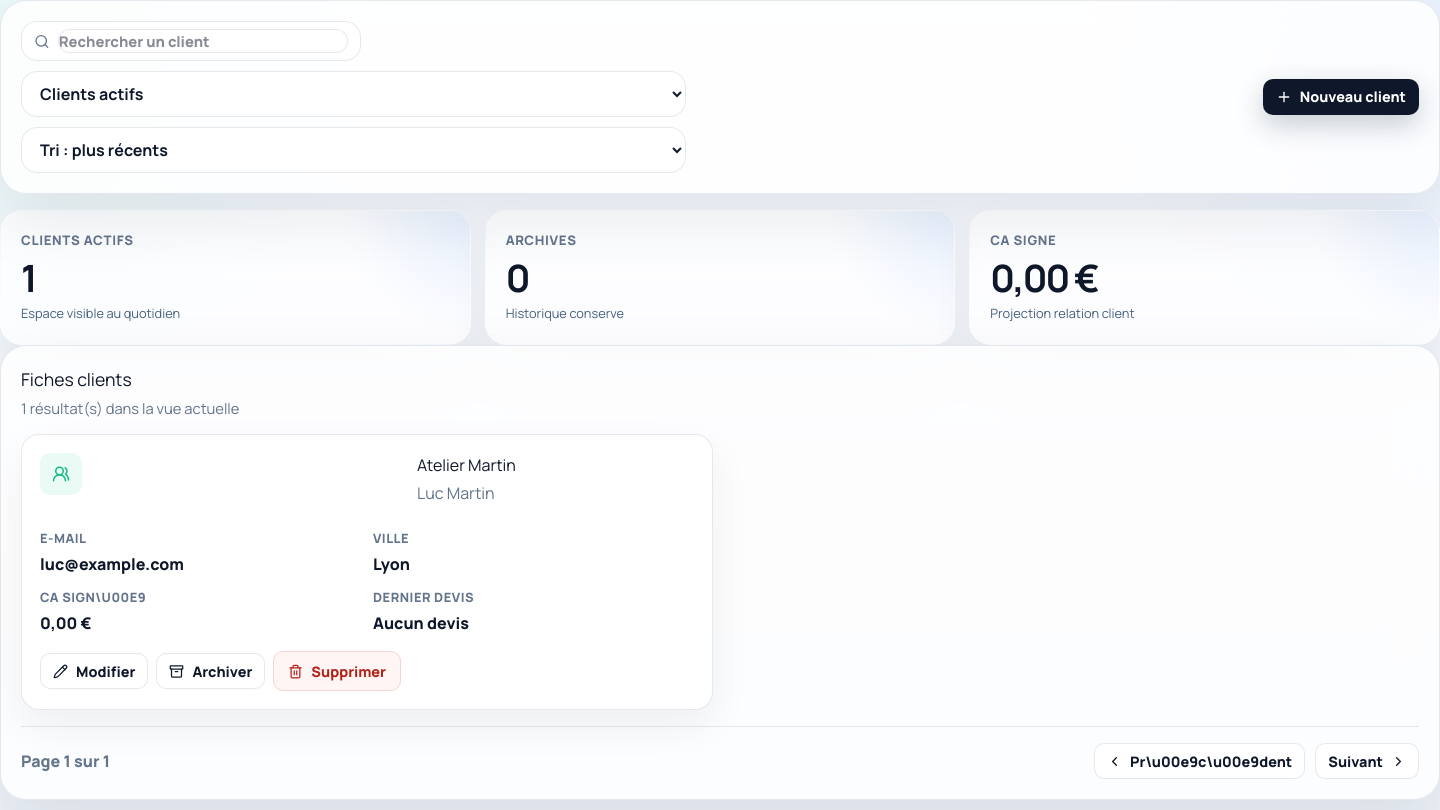
Test: ClientsWorkspace › shows a validation toast when name is missing
What coordinates should you click on to do the following:
click the button "Nouveau client"
I would click on:
 (1341, 97)
Its box is [1263,79,1419,115].
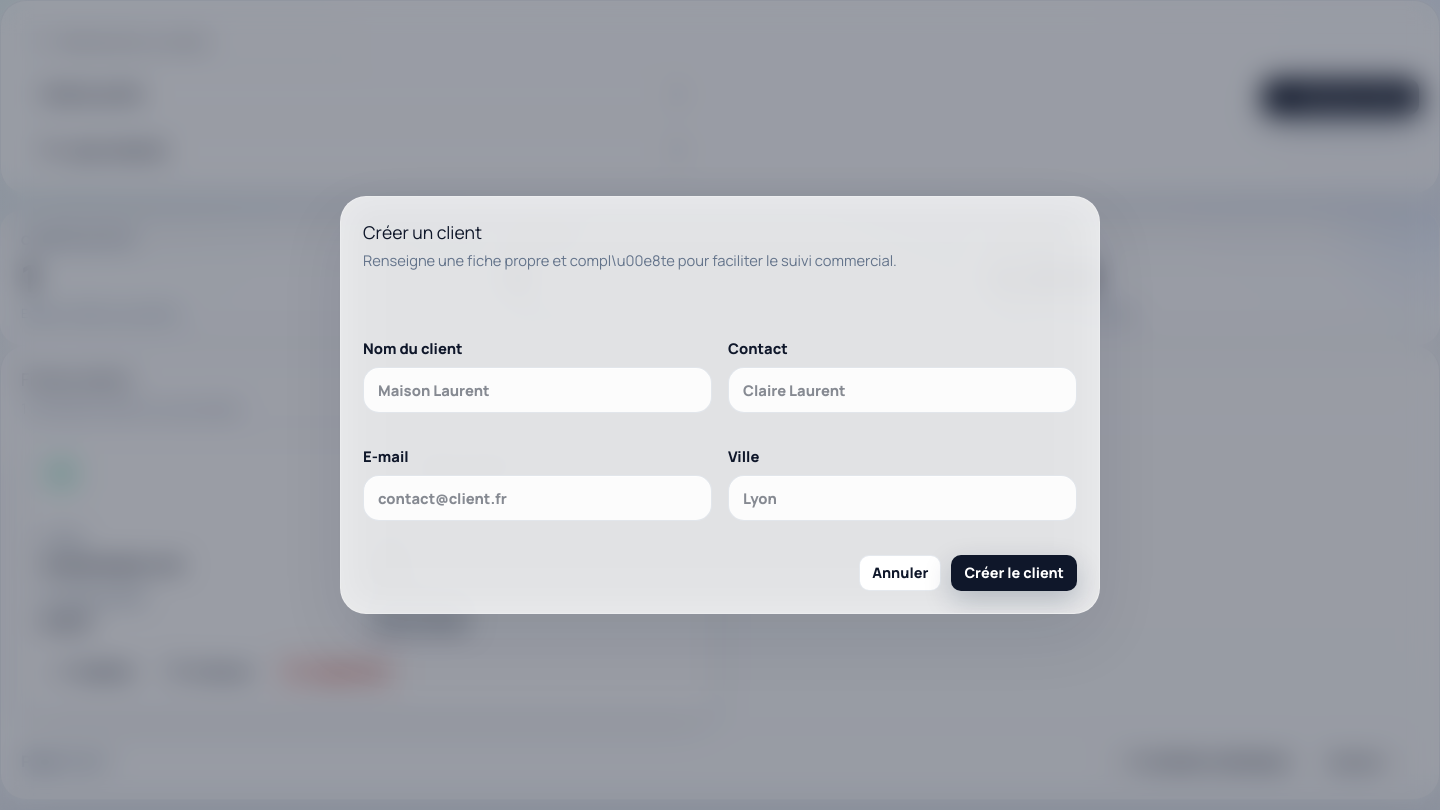
What coordinates should you click on to do the following:
click the button "Créer le client"
I would click on:
 (1014, 573)
Its box is [951,555,1077,591].
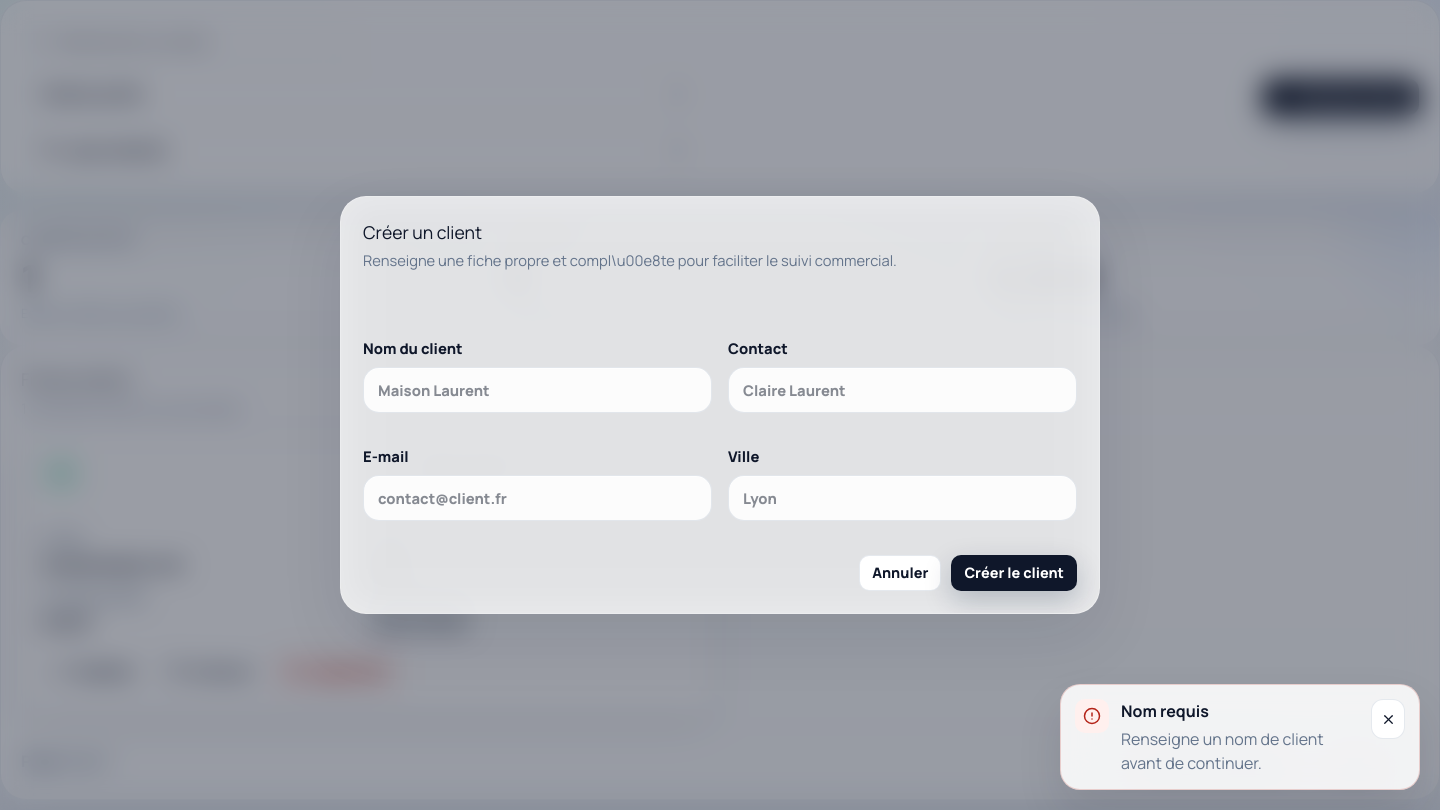
expect the text "Renseigne un nom de client avant de continuer." is shown: met, box [1121,727,1359,775]
